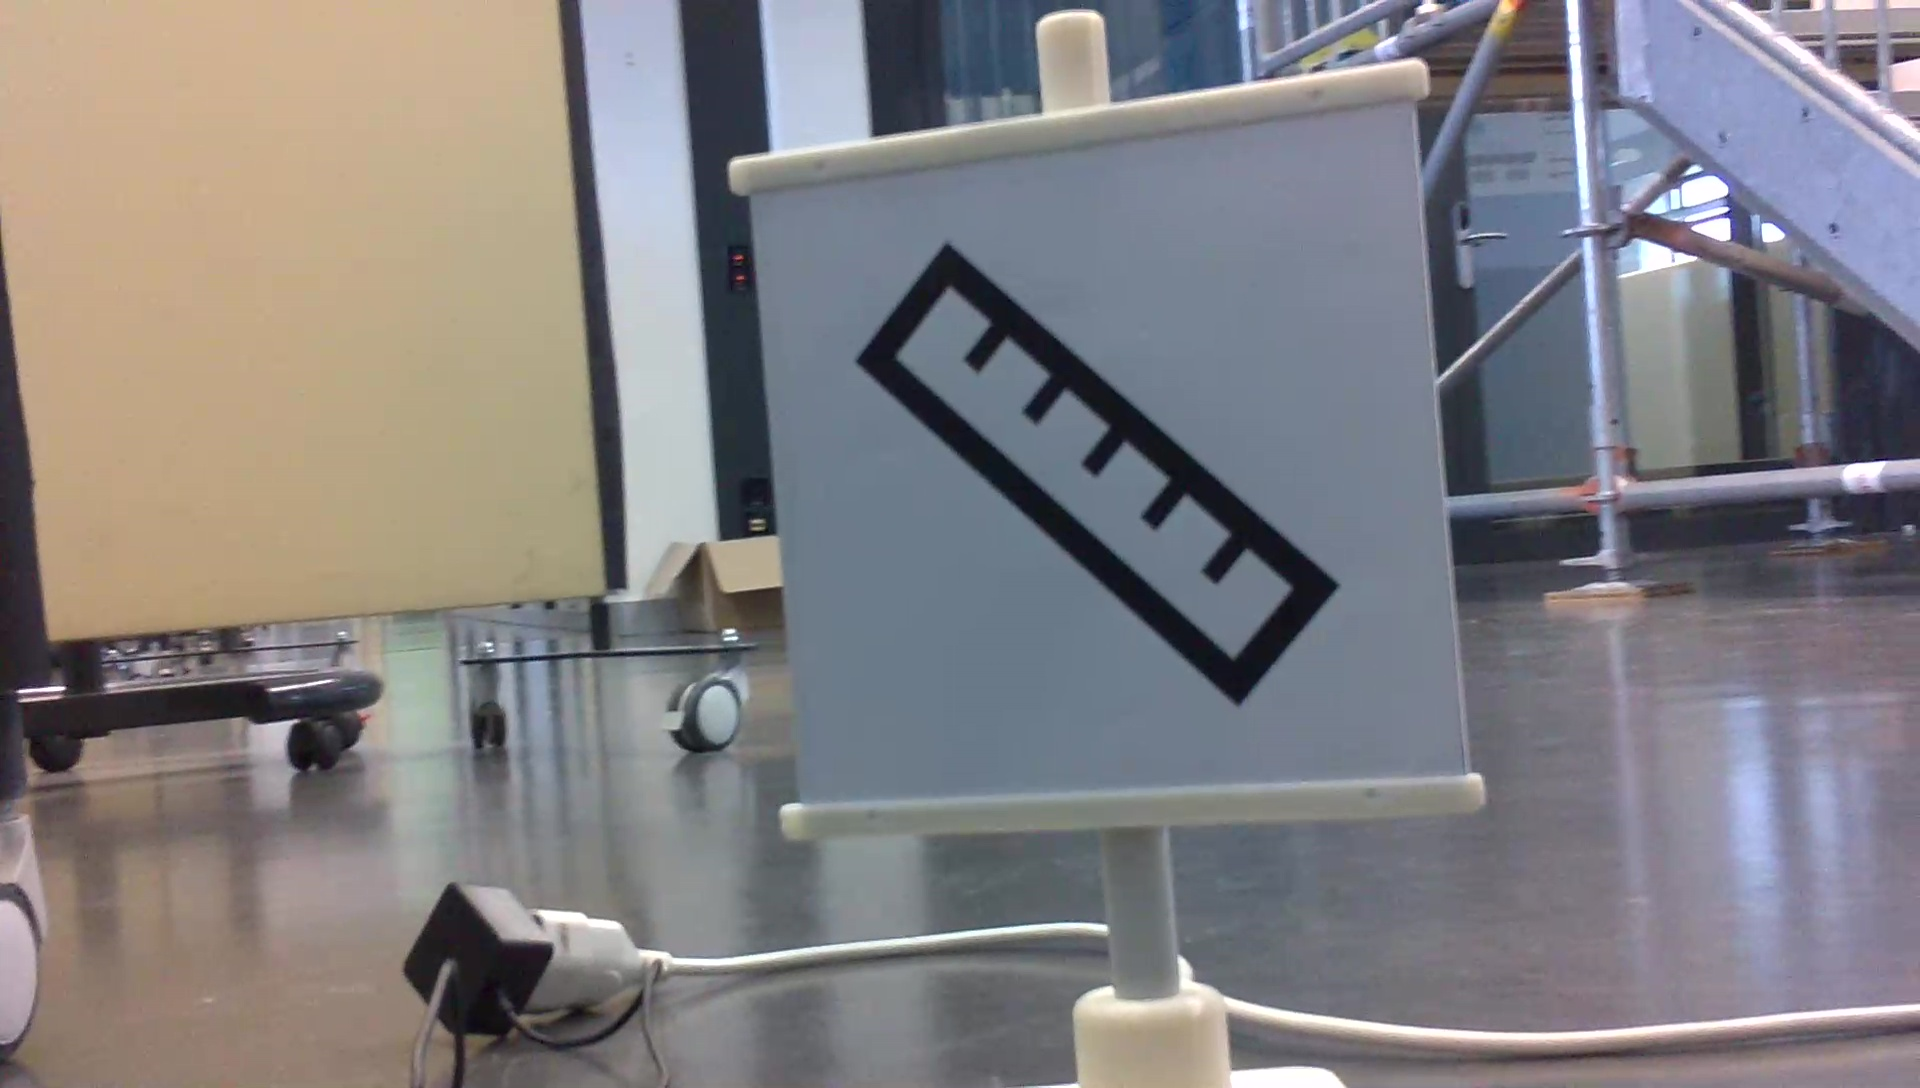ruler: (852, 231, 1335, 715)
